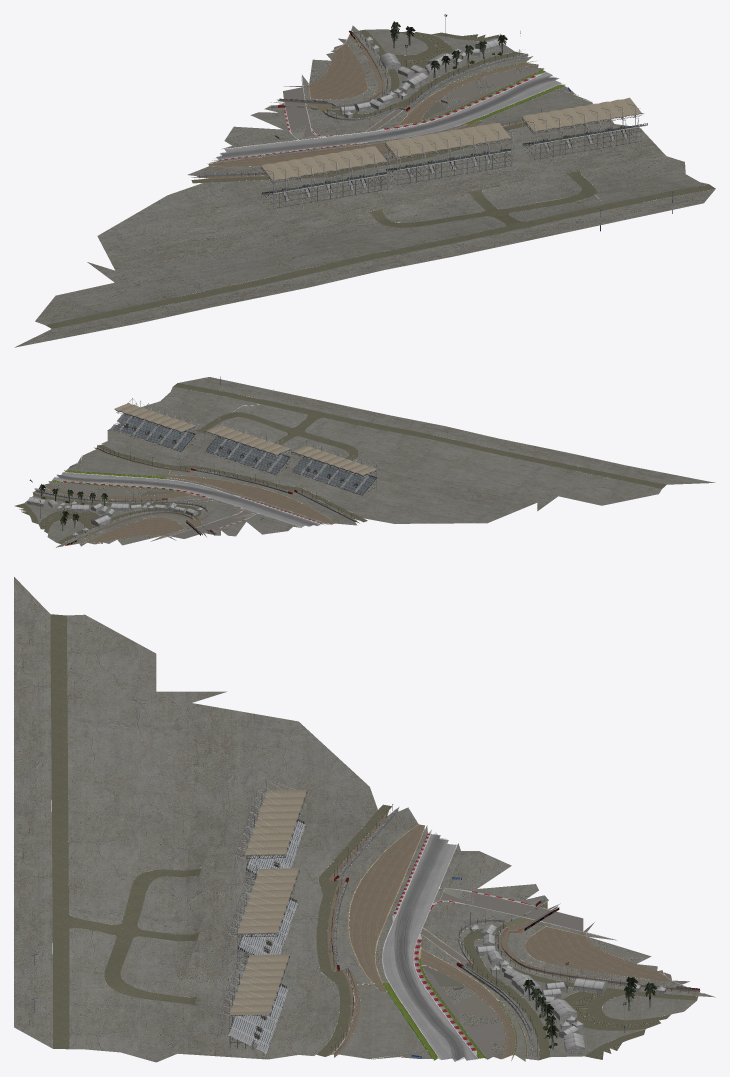
3 renders of one model, top to bottom at view 1: azimuth 30°, elevation 25°; view 2: azimuth 150°, elevation 25°; view 3: azimuth 270°, elevation 25°, orthographic. The views are drawn at different scales.
Parts seen in each view (by area): view 1: tile_t06; view 2: tile_t06; view 3: tile_t06.
Part boxes in pixels (x1=…): tile_t06: x1=14, y1=14, x2=715, y2=347; tile_t06: x1=15, y1=376, x2=715, y2=547; tile_t06: x1=14, y1=577, x2=715, y2=1062.
Bounding box in the file's own units: 473 × 31.09 × 316.
Materials: 42 (41 with a texture image).
